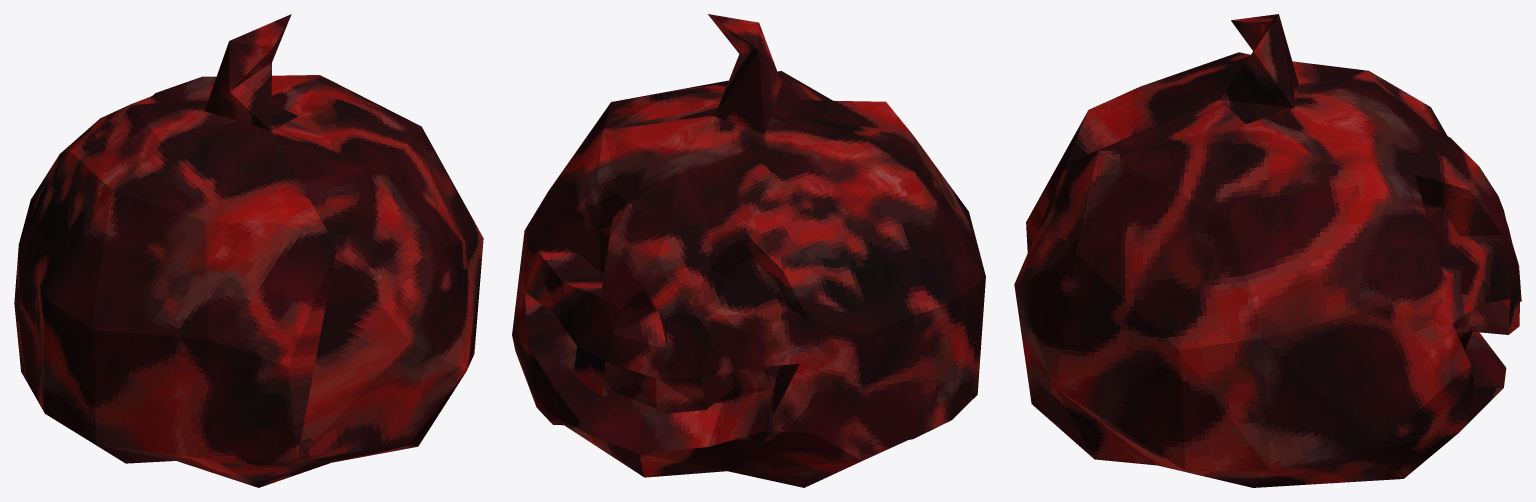
File: item_pumpkinjack_blood.glb
The picture shows the model from 3 angles, left to right: view 1: azimuth 30°, elevation 25°; view 2: azimuth 150°, elevation 25°; view 3: azimuth 270°, elevation 25°; orthographic projection. The views are drawn at different scales.
Visible parts, largest first — view 1: pumpkin_01; view 2: pumpkin_01; view 3: pumpkin_01.
Part boxes in pixels (left/top/right/bottom): pumpkin_01: left=14, top=14, right=483, bottom=487; pumpkin_01: left=512, top=14, right=985, bottom=487; pumpkin_01: left=1014, top=14, right=1521, bottom=487.
Bounding box in the file's own units: 0.501 × 0.4627 × 0.5053.
1 material, 1 textured.
